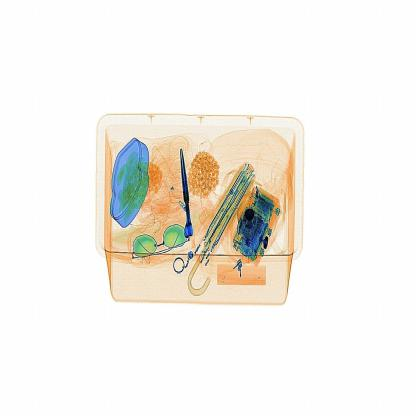gun: (171, 128, 205, 249)
